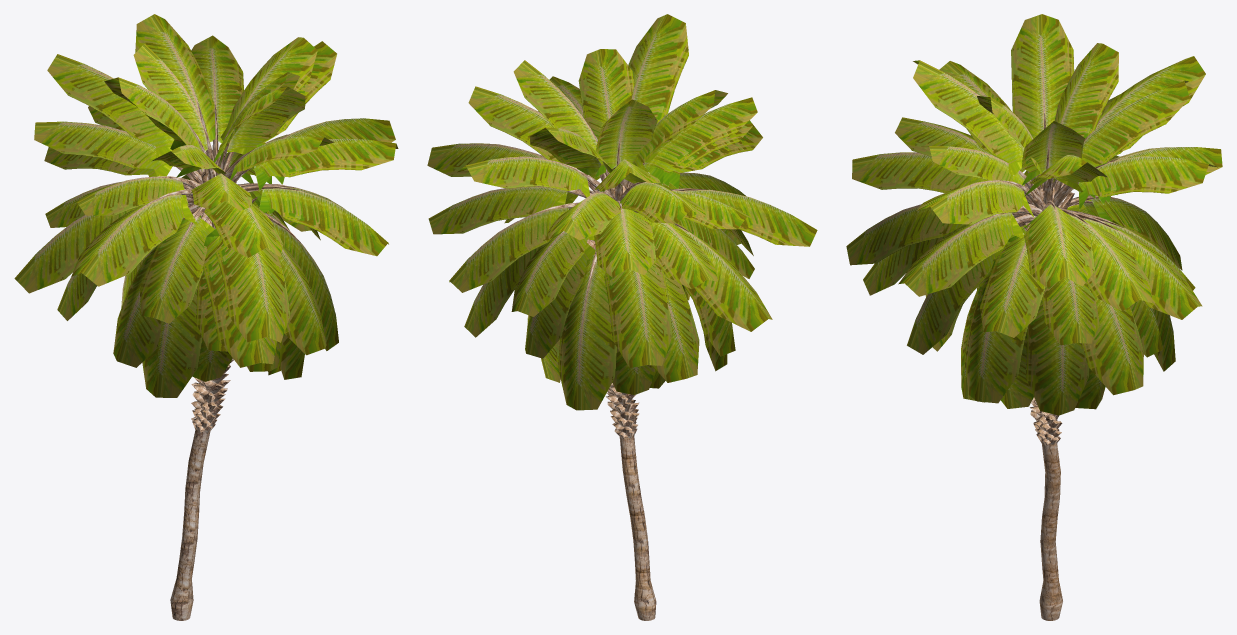
The model's file is palm0.glb.
3 views of the same model, side by side, from view 1: azimuth 30°, elevation 25°; view 2: azimuth 150°, elevation 25°; view 3: azimuth 270°, elevation 25° (orthographic). The views are drawn at different scales.
Parts seen in each view (by area): view 1: palm02, date_palm_leaf; view 2: palm02, date_palm_leaf; view 3: palm02, date_palm_leaf.
Boxes of the visible parts, <box> form: palm02: <box>14,14,398,397</box>; date_palm_leaf: <box>145,102,300,620</box>; palm02: <box>427,14,817,410</box>; date_palm_leaf: <box>533,131,707,620</box>; palm02: <box>846,14,1222,415</box>; date_palm_leaf: <box>983,113,1123,620</box>.
Bounding box in the file's own units: 77.69 × 116 × 68.7.
2 materials, 2 textured.
